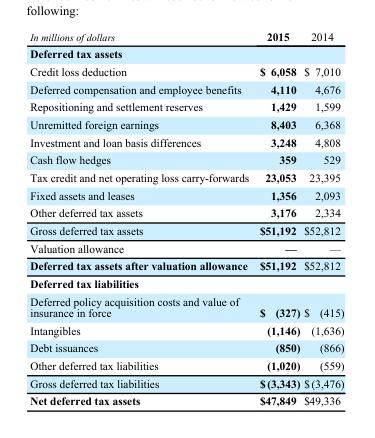table: (29, 29, 343, 406)
table column: (29, 29, 253, 406), (253, 29, 301, 406), (301, 29, 343, 406)
table column header: (29, 29, 343, 44)
table projected row header: (29, 44, 343, 62), (29, 274, 343, 292)
table row: (29, 292, 343, 321), (29, 44, 343, 62), (29, 79, 343, 97), (29, 97, 343, 115), (29, 132, 343, 150), (29, 150, 343, 168), (29, 168, 343, 186), (29, 203, 343, 221), (29, 221, 343, 239), (29, 256, 343, 274), (29, 274, 343, 292), (29, 338, 343, 356), (29, 356, 343, 374), (29, 62, 343, 79), (29, 115, 343, 132), (29, 186, 343, 203), (29, 239, 343, 256), (29, 321, 343, 338), (29, 374, 343, 391), (29, 29, 343, 44), (29, 391, 343, 406)
